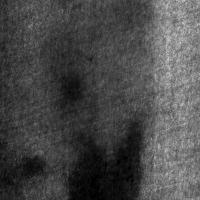patches: (23, 22, 159, 158), (67, 120, 144, 200), (30, 47, 98, 115), (95, 0, 157, 53), (57, 73, 82, 105), (23, 154, 45, 176)
